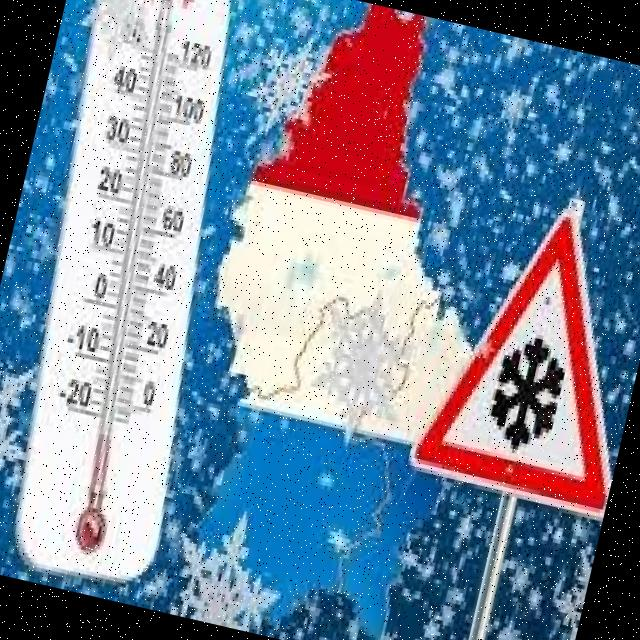snow_warning: (393, 177, 640, 536)
